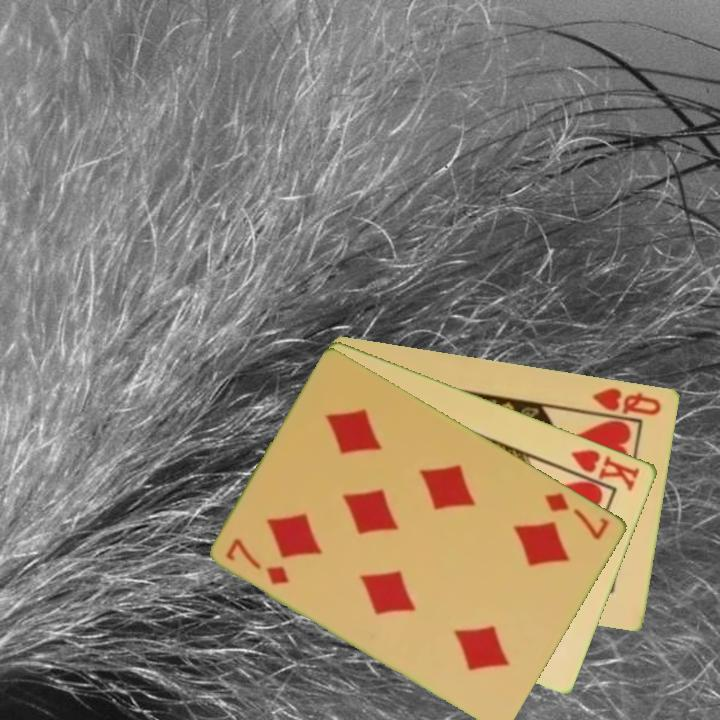7d: (541, 488, 613, 543), (222, 534, 293, 588)
Kh: (559, 445, 643, 493)
Qh: (589, 384, 665, 418)
